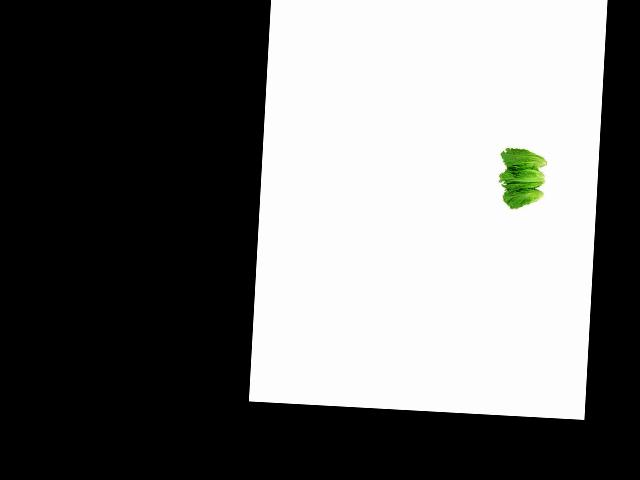lettuce: (500, 183, 554, 211)
